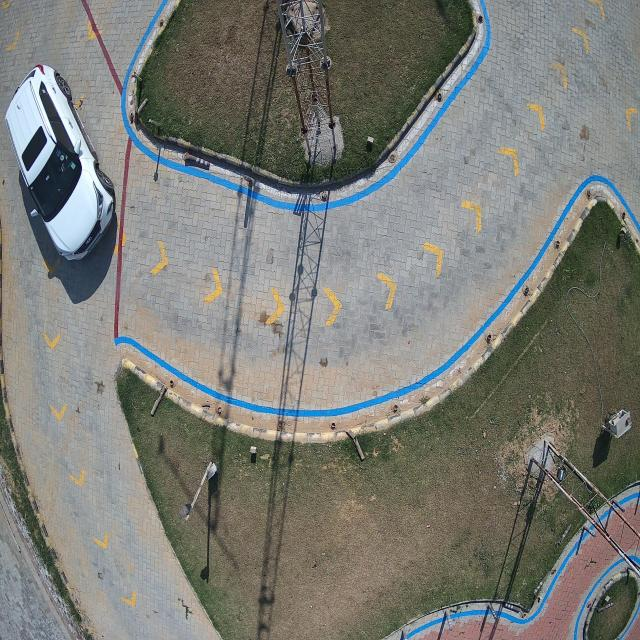car: (5, 65, 115, 260)
